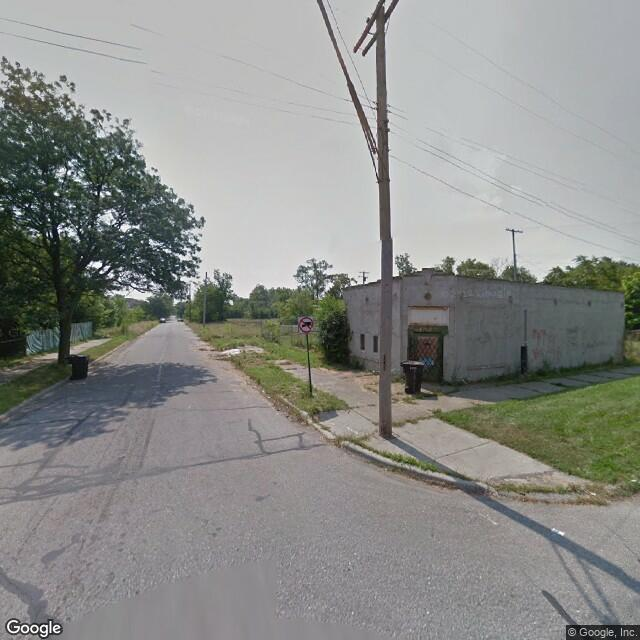litter: (260, 388, 268, 398), (632, 478, 635, 483)
